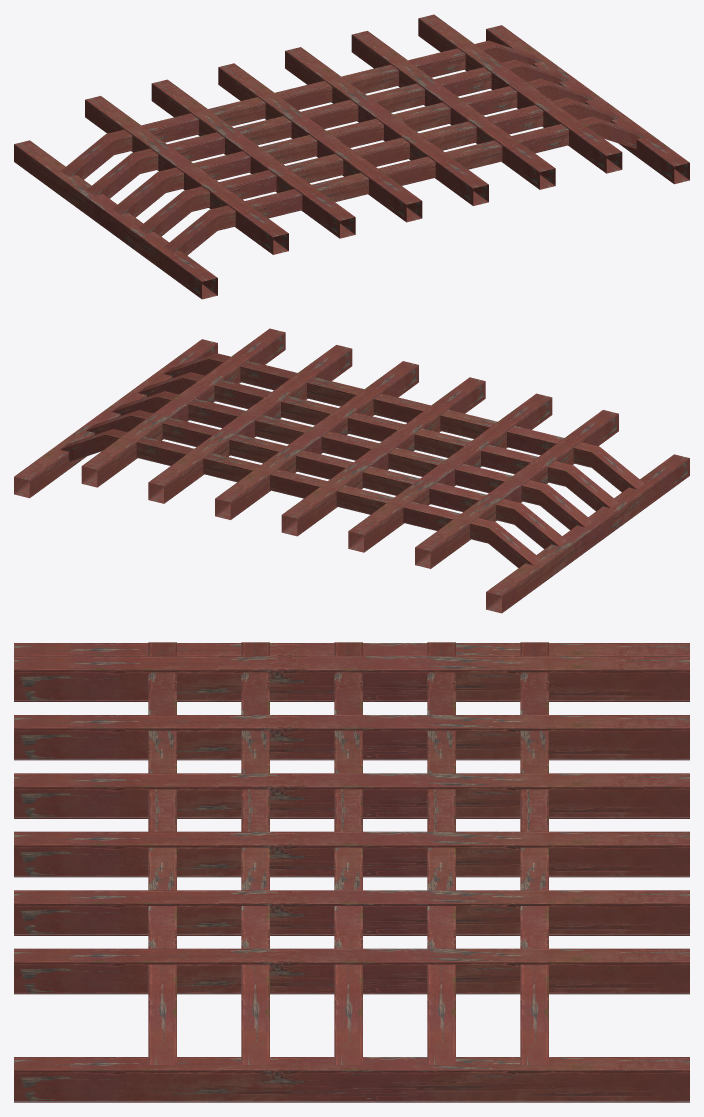
File: b_zx_yuanmen01_03.FBX
3 renders of one model, top to bottom at view 1: azimuth 30°, elevation 25°; view 2: azimuth 150°, elevation 25°; view 3: azimuth 270°, elevation 25°, orthographic. The views are drawn at different scales.
Parts seen in each view (by area): view 1: b_zx_yuanmen01_03; view 2: b_zx_yuanmen01_03; view 3: b_zx_yuanmen01_03.
Part boxes in pixels (<box>): b_zx_yuanmen01_03: <box>14,14,689,299</box>; b_zx_yuanmen01_03: <box>14,328,689,613</box>; b_zx_yuanmen01_03: <box>14,642,689,1102</box>.
Bounding box in the file's own units: 14.58 × 1.28 × 9.73.
